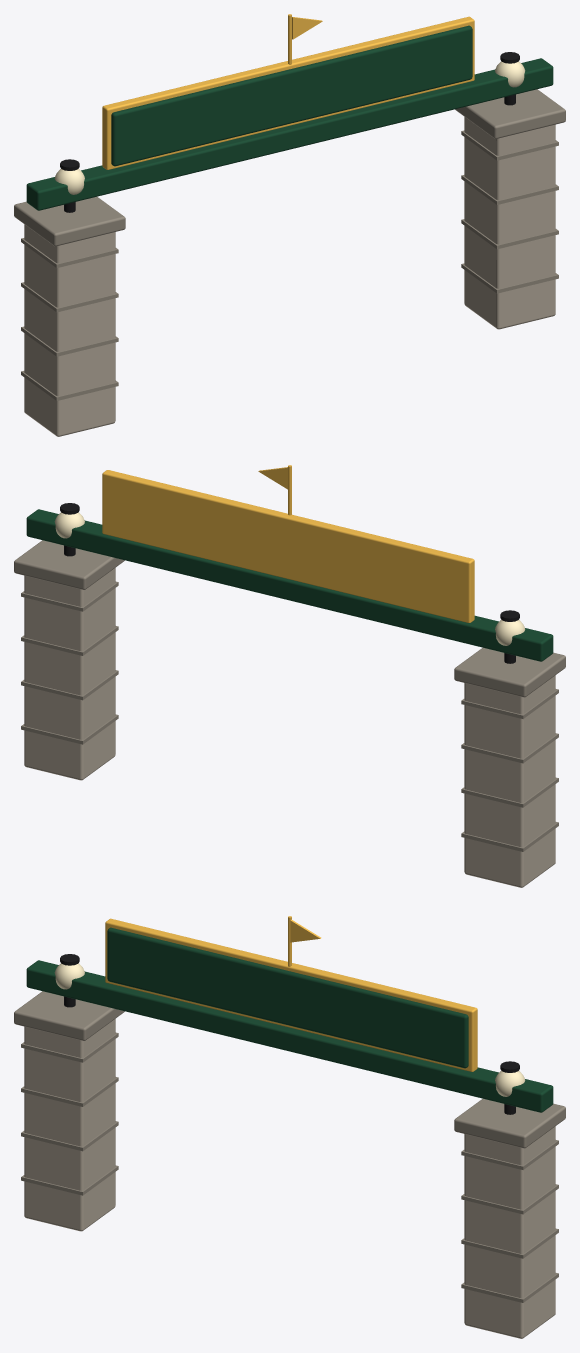
The model's file is GirisKapisi.fbx.
The picture shows the model from 3 angles, top to bottom: view 1: azimuth 30°, elevation 25°; view 2: azimuth 150°, elevation 25°; view 3: azimuth 330°, elevation 25°; orthographic projection.
Parts seen in each view (by area): view 1: GirisKapisi_Model; view 2: GirisKapisi_Model; view 3: GirisKapisi_Model.
Part boxes in pixels (x1,y1,x2,y2): GirisKapisi_Model: (14,14,565,436); GirisKapisi_Model: (14,465,565,887); GirisKapisi_Model: (14,916,565,1338).
Bounding box in the file's own units: 12.2 × 7.9 × 1.7.
